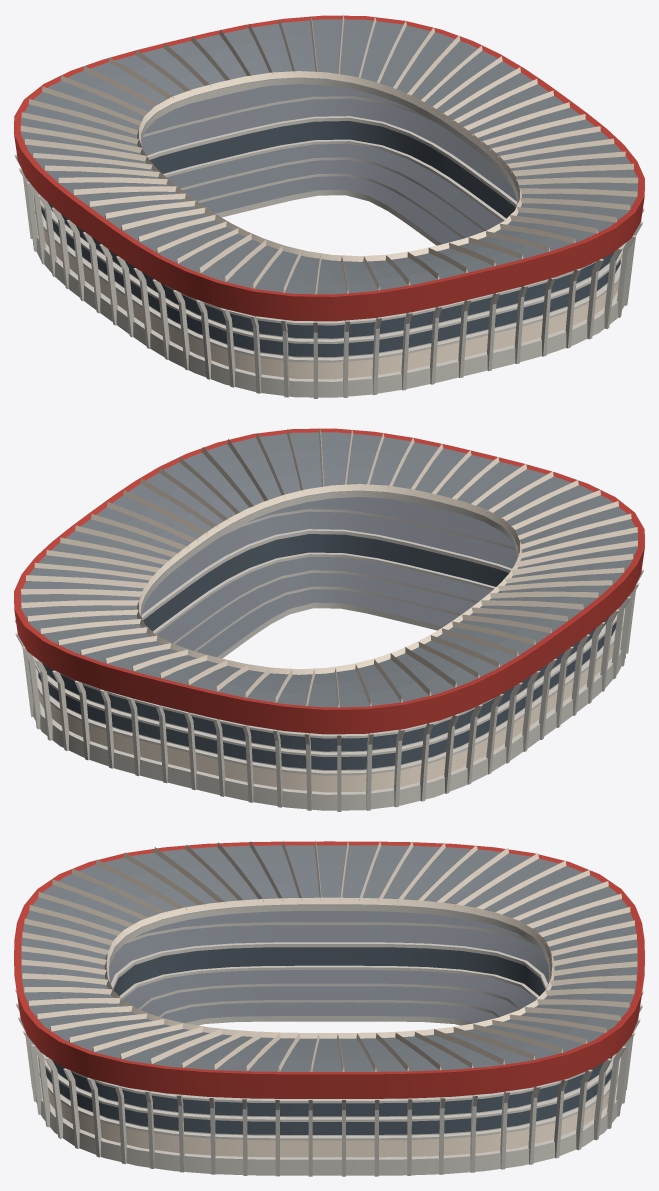
The model's file is mexico-city-estadio-azteca.glb.
The picture shows the model from 3 angles, top to bottom: view 1: azimuth 30°, elevation 25°; view 2: azimuth 150°, elevation 25°; view 3: azimuth 270°, elevation 25°; orthographic projection.
Visible parts, largest first — view 1: Estadio Azteca; view 2: Estadio Azteca; view 3: Estadio Azteca.
Boxes of the visible parts, <box> form: Estadio Azteca: <box>14,14,644,398</box>; Estadio Azteca: <box>14,428,644,811</box>; Estadio Azteca: <box>14,841,644,1176</box>.
Size of the model in its own units: 228 by 55.26 by 261.
